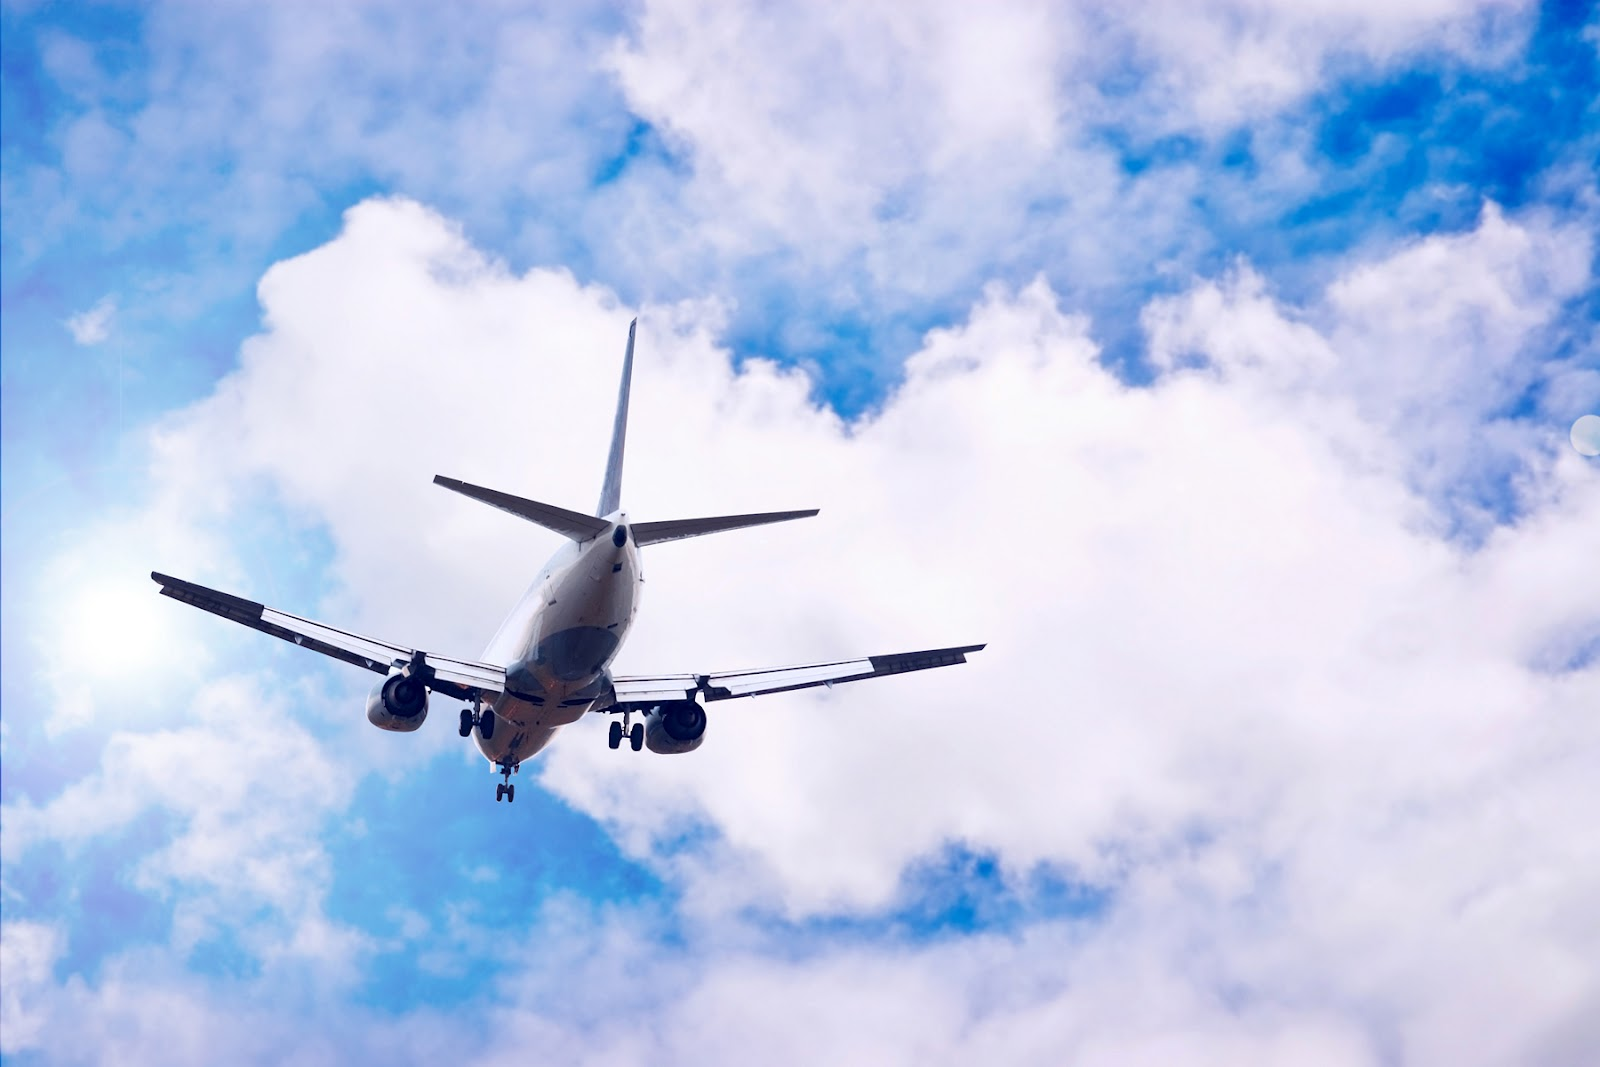plane: (152, 301, 988, 811)
